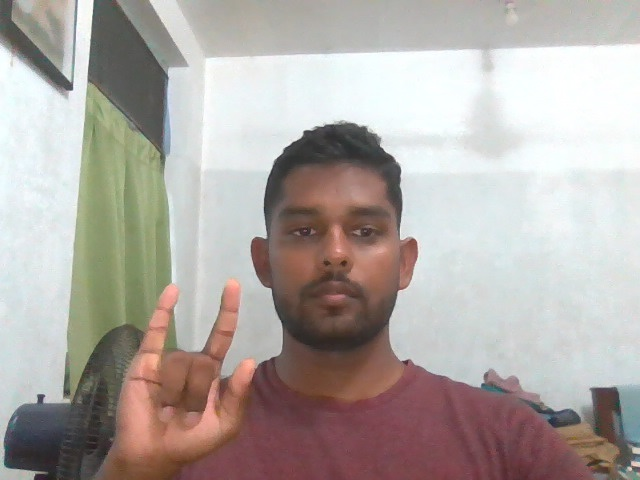hello: (93, 274, 261, 471)
